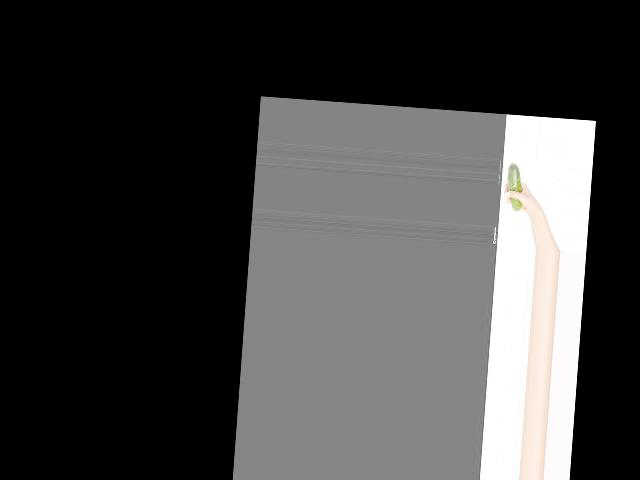cucumber: (504, 162, 524, 210)
